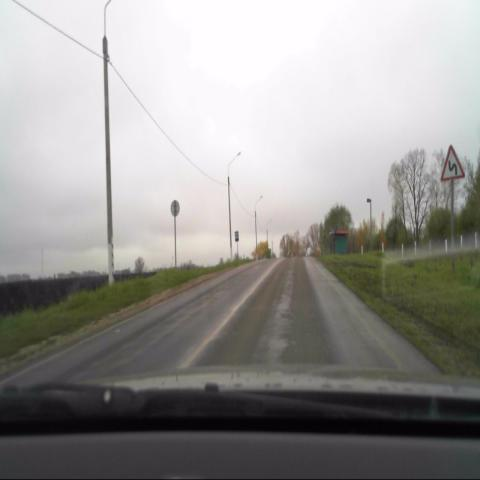1_12_2: (440, 142, 465, 182)
